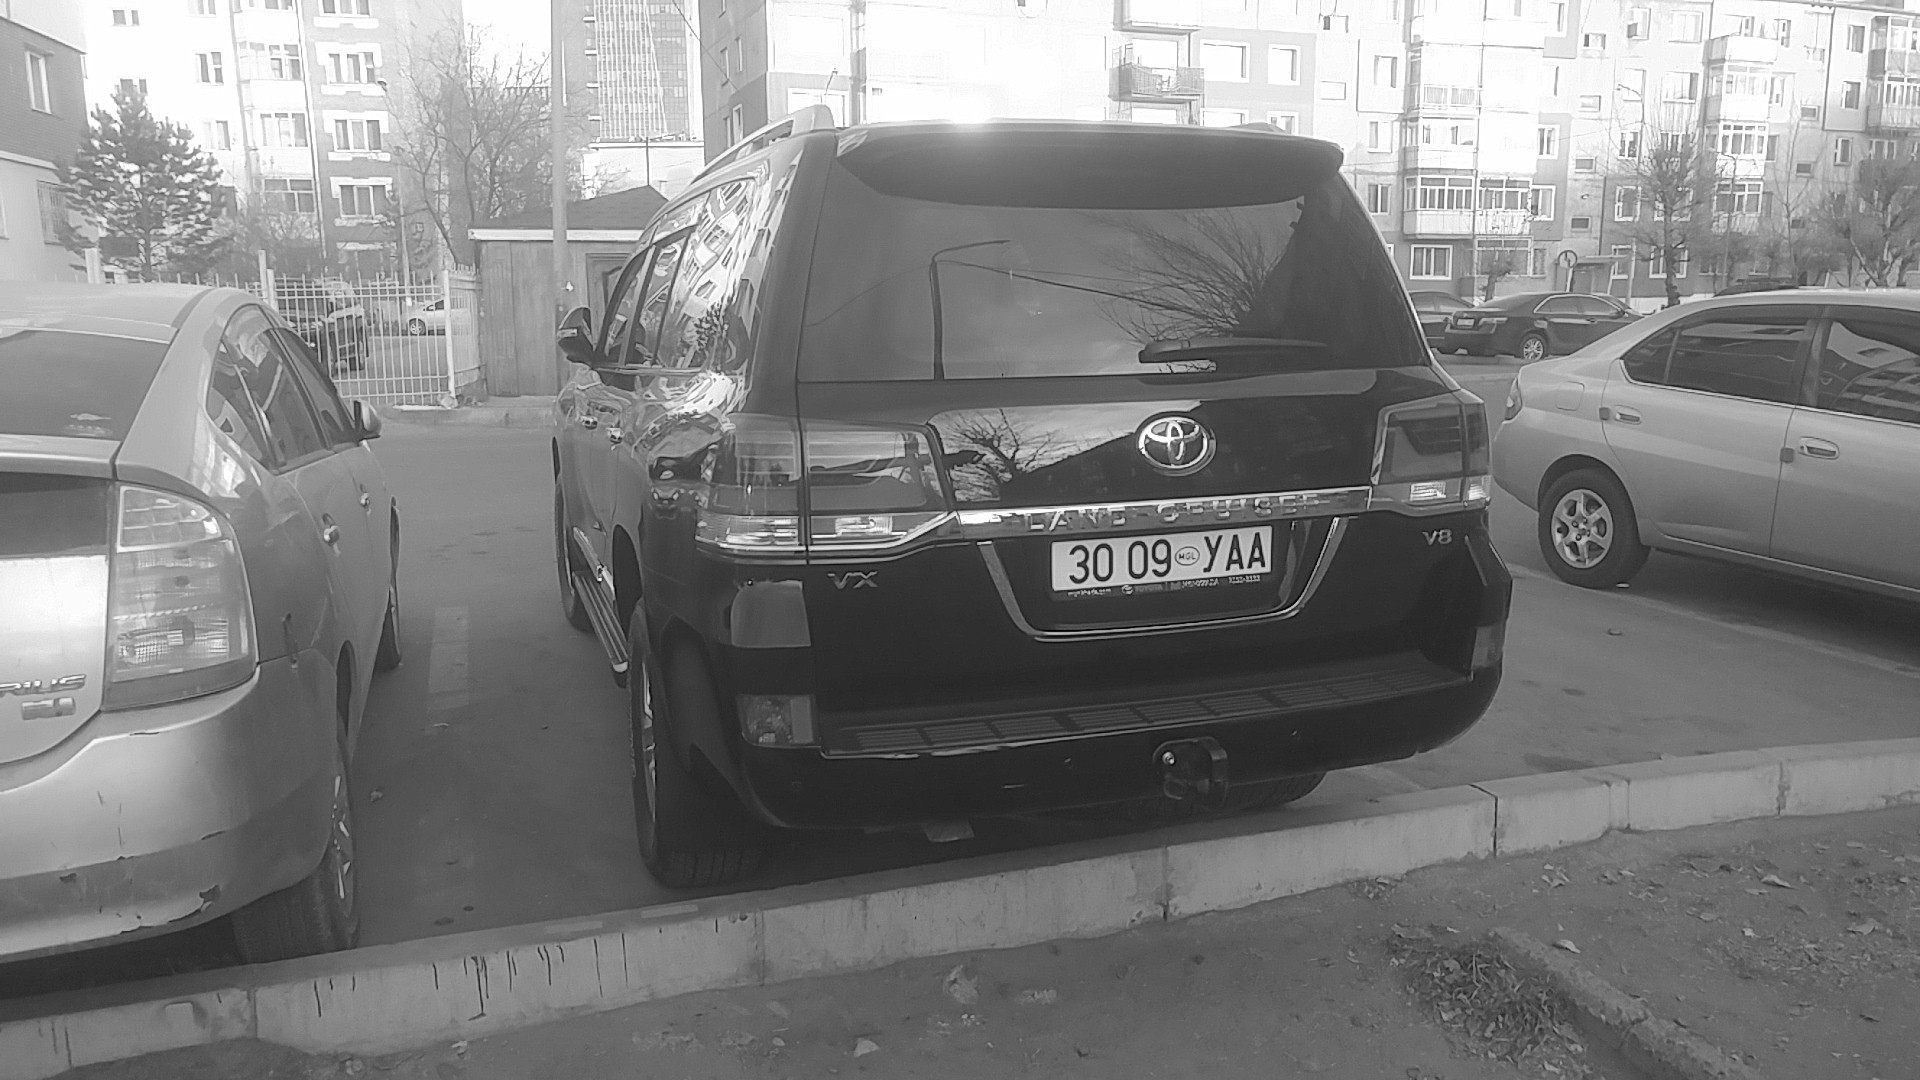0: (1092, 543, 1114, 582), (1128, 540, 1149, 579)
3: (1068, 544, 1089, 585)
9: (1151, 538, 1172, 577)
a: (1225, 533, 1244, 571), (1247, 531, 1266, 569)
plate: (1044, 520, 1284, 600)
u: (1202, 534, 1223, 574)
